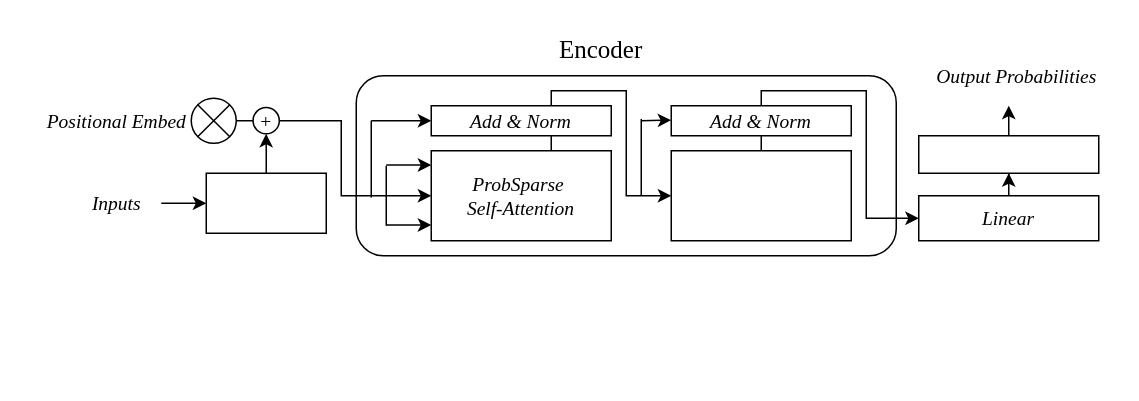
This 1139x401 diagram has some shape labels left out. The shapes that lost their labels are listed below. From the top down, each one's centre as x and y in pixels, then its label:
point 1008,153: Sigmoid
point 265,202: Input Embed
point 760,195: Feed Forward Network
